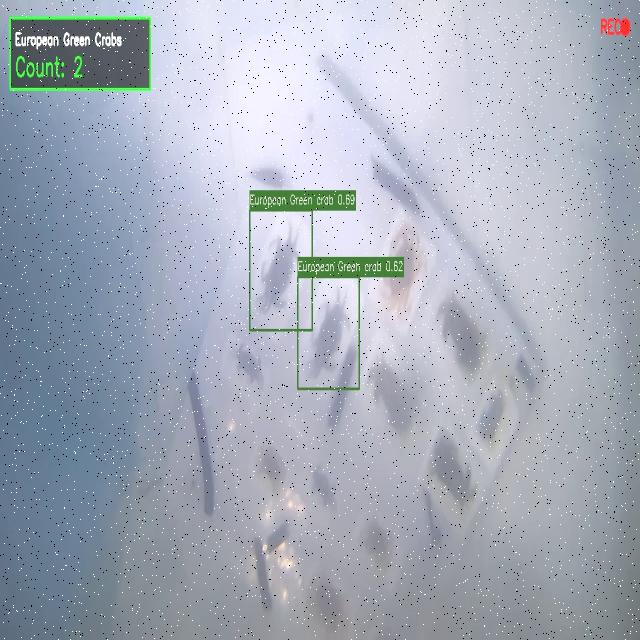European_Green_Crab: (247, 205, 312, 329), (298, 281, 359, 385), (235, 339, 266, 388), (309, 459, 335, 510)
